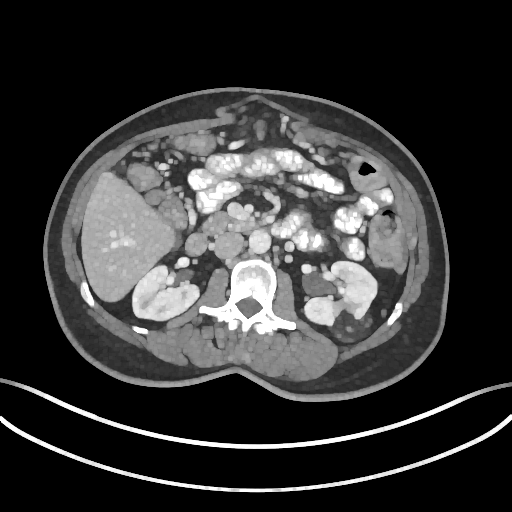Lesion: (328, 309, 377, 343)
